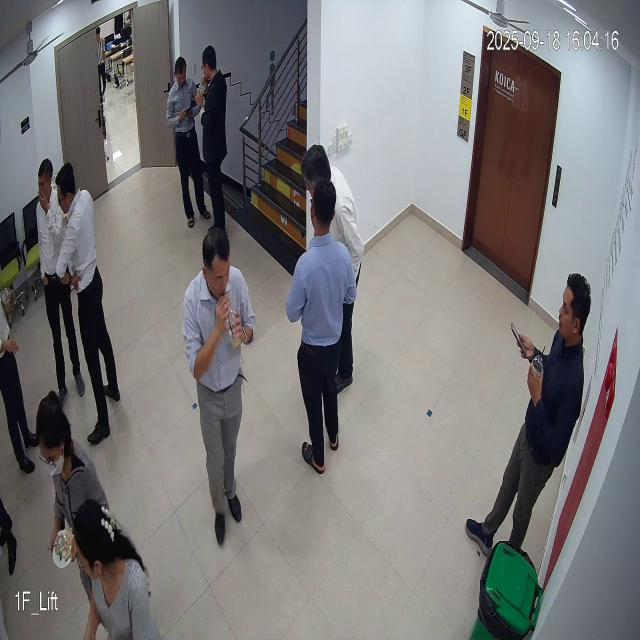face: (197, 218, 238, 314)
